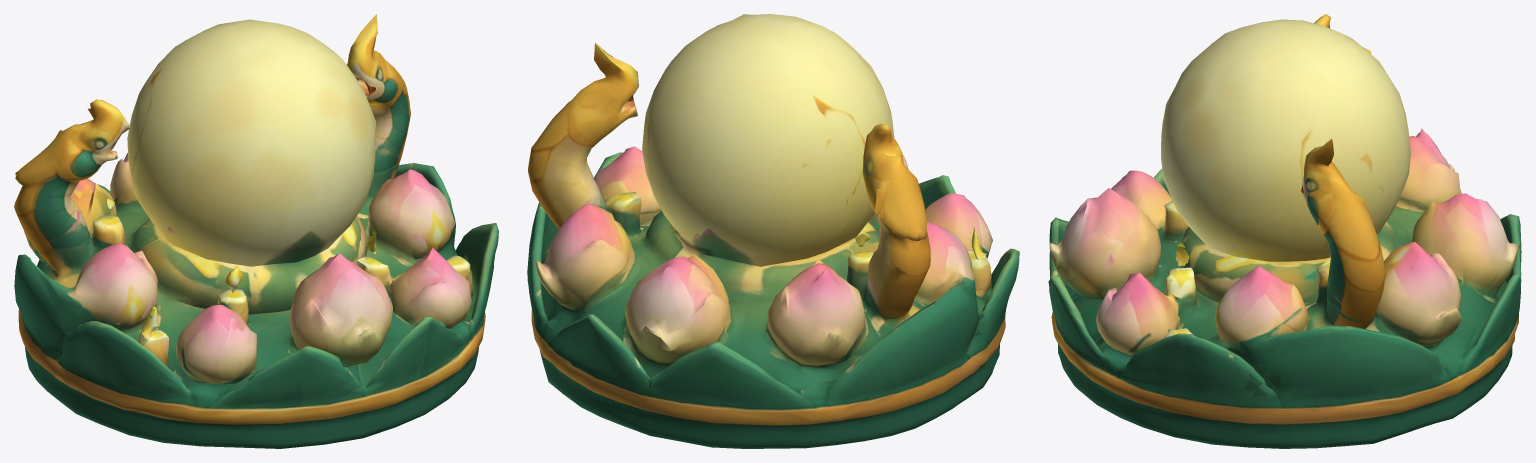
The model's file is giant4.glb.
3 views of the same model, side by side, from view 1: azimuth 30°, elevation 25°; view 2: azimuth 150°, elevation 25°; view 3: azimuth 270°, elevation 25° (orthographic).
Parts seen in each view (by area): view 1: tripo_node_2fbceefb-2577-4d39-b34c-37762aebdd81; view 2: tripo_node_2fbceefb-2577-4d39-b34c-37762aebdd81; view 3: tripo_node_2fbceefb-2577-4d39-b34c-37762aebdd81.
Part boxes in pixels (left/top/right/bottom): tripo_node_2fbceefb-2577-4d39-b34c-37762aebdd81: left=14, top=14, right=498, bottom=448; tripo_node_2fbceefb-2577-4d39-b34c-37762aebdd81: left=527, top=14, right=1019, bottom=448; tripo_node_2fbceefb-2577-4d39-b34c-37762aebdd81: left=1048, top=14, right=1521, bottom=448.
Bounding box in the file's own units: 0.9915 × 0.7473 × 0.9873.
Materials: 1 (1 with a texture image).
